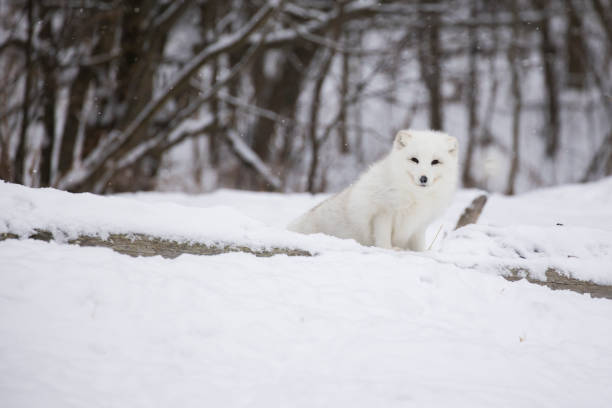arcticfox: (394, 139, 431, 194)
